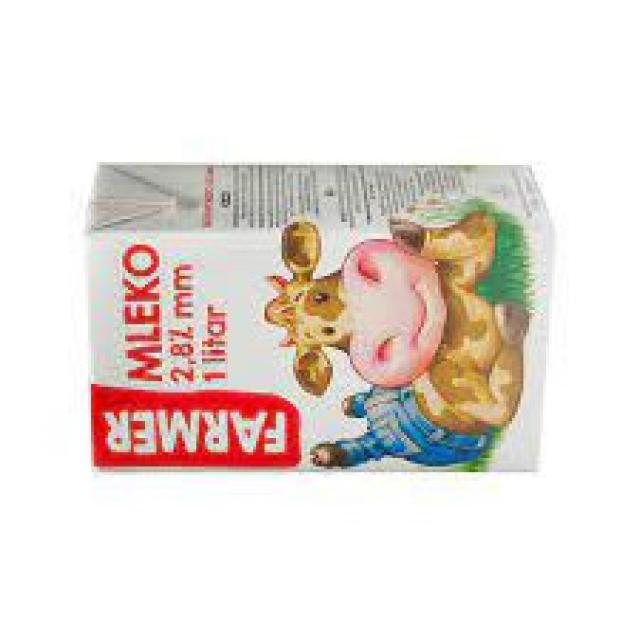non_white_jug: (78, 156, 558, 480)
